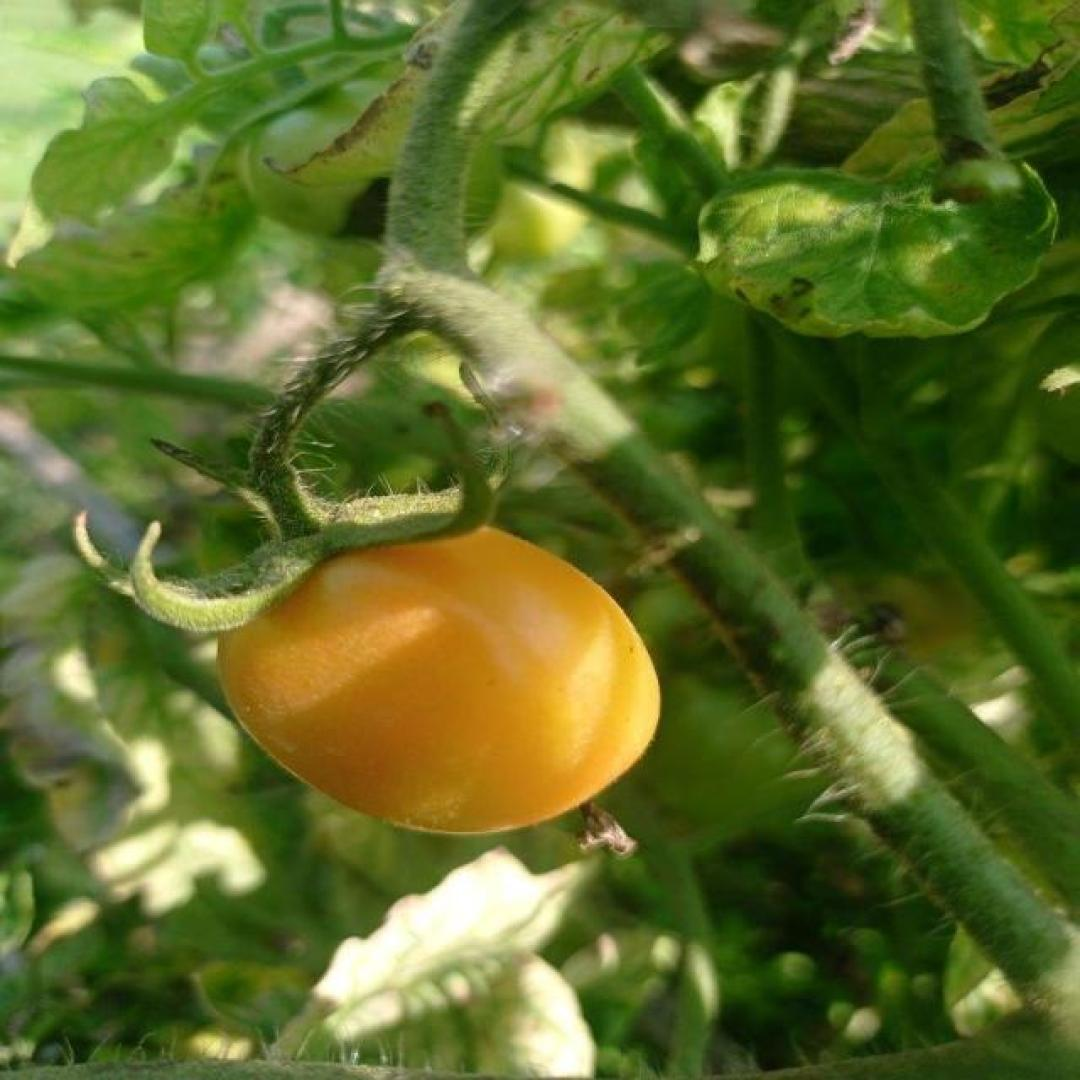setengah_matang: (211, 511, 665, 837)
